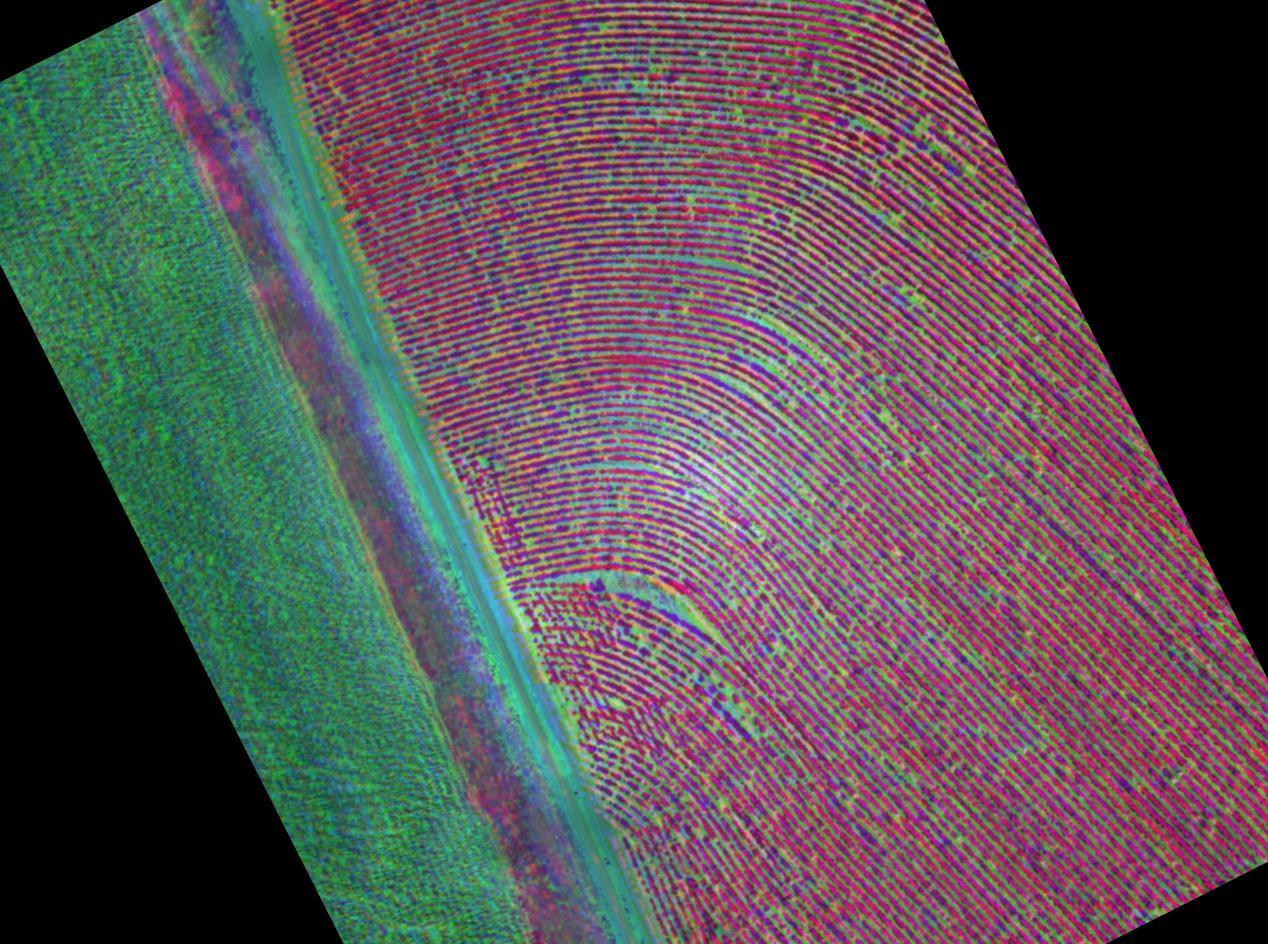dc: (823, 68, 964, 238), (563, 563, 702, 669), (703, 283, 840, 379), (573, 43, 694, 144), (696, 393, 803, 488)
